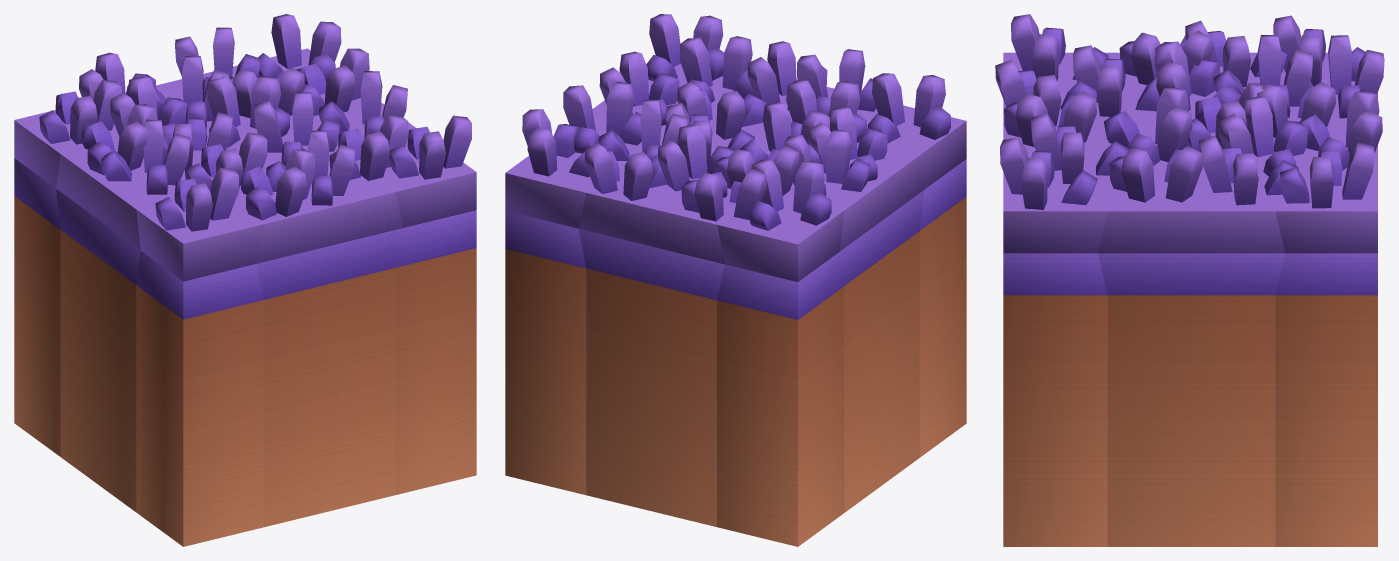
Rendered from bloco de grama com grama.glb.
3 renders of one model, left to right at view 1: azimuth 30°, elevation 25°; view 2: azimuth 150°, elevation 25°; view 3: azimuth 270°, elevation 25°, orthographic. The views are drawn at different scales.
Visible parts, largest first — view 1: block-grass; view 2: block-grass; view 3: block-grass.
Boxes of the visible parts, x1,y1,x2,y2 form: block-grass: (14, 14, 476, 546); block-grass: (505, 14, 966, 546); block-grass: (995, 14, 1384, 546).
Bounding box in the file's own units: 1.05 × 1.15 × 1.05.
2 materials, 2 textured.
